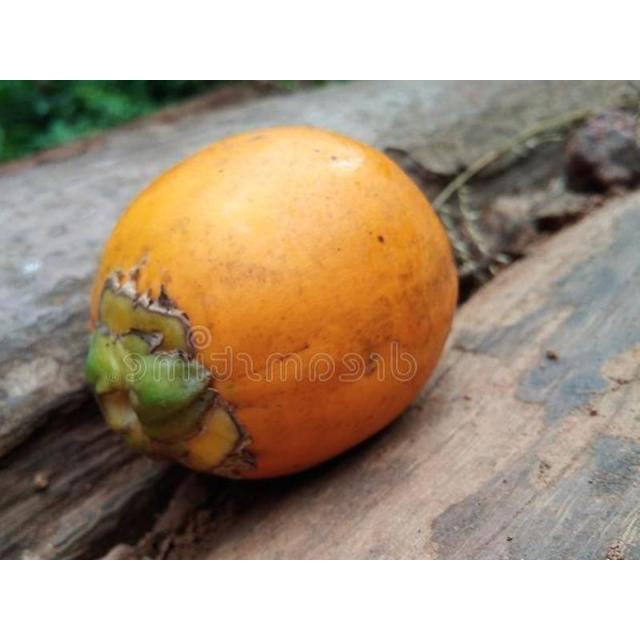good: (85, 126, 460, 484)
